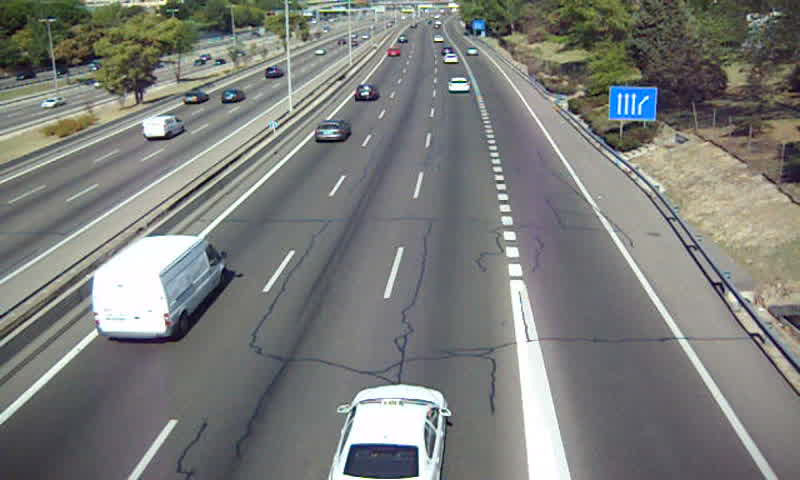car: (329, 384, 447, 480), (314, 120, 351, 142), (446, 76, 472, 94), (354, 83, 378, 102), (442, 52, 463, 66), (387, 47, 405, 58)
van: (93, 236, 225, 340)
